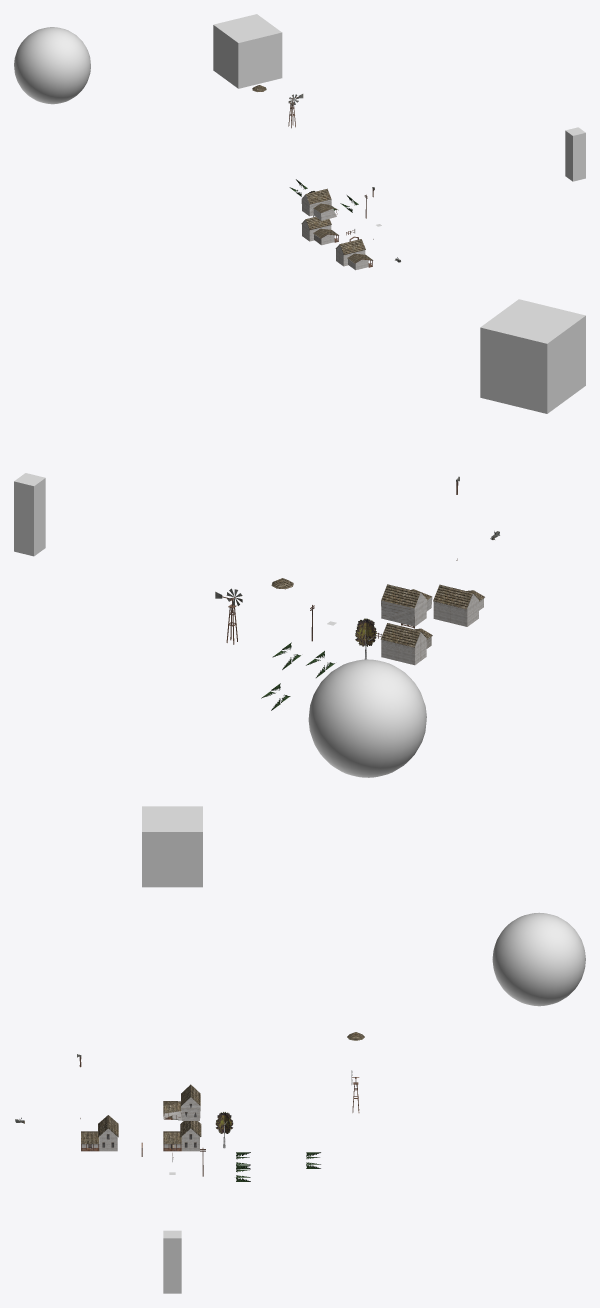
Rendered from fake game.fbx.
3 renders of one model, top to bottom at view 1: azimuth 30°, elevation 25°; view 2: azimuth 150°, elevation 25°; view 3: azimuth 270°, elevation 25°, orthographic. The views are drawn at different scales.
Visible parts, largest first — view 1: giant eye ball, error object, pillar, fucking work farmhouse, broken house, evil farmhouse; view 2: giant eye ball, error object, pillar, fucking work farmhouse, evil farmhouse, broken house; view 3: giant eye ball, error object, pillar, fucking work farmhouse, evil farmhouse, broken house.
Part boxes in pixels (x1=…): giant eye ball: x1=14, y1=27, x2=90, y2=104; error object: x1=213, y1=14, x2=282, y2=88; pillar: x1=565, y1=127, x2=585, y2=181; fucking work farmhouse: x1=335, y1=239, x2=373, y2=270; broken house: x1=301, y1=188, x2=337, y2=220; evil farmhouse: x1=301, y1=217, x2=338, y2=245; giant eye ball: x1=308, y1=659, x2=426, y2=777; error object: x1=480, y1=299, x2=585, y2=413; pillar: x1=14, y1=473, x2=45, y2=556; fucking work farmhouse: x1=433, y1=584, x2=484, y2=626; evil farmhouse: x1=380, y1=623, x2=432, y2=665; broken house: x1=381, y1=584, x2=432, y2=626; giant eye ball: x1=492, y1=912, x2=585, y2=1006; error object: x1=142, y1=806, x2=202, y2=887; pillar: x1=163, y1=1230, x2=181, y2=1293; fucking work farmhouse: x1=81, y1=1115, x2=118, y2=1151; evil farmhouse: x1=163, y1=1121, x2=201, y2=1151; broken house: x1=163, y1=1084, x2=200, y2=1120.
Size of the model in its own units: 18830 by 10300 by 18718.
